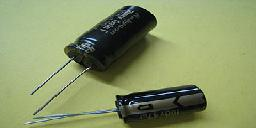Electrolytic-Capacitor: (28, 6, 160, 121), (114, 81, 209, 128)
